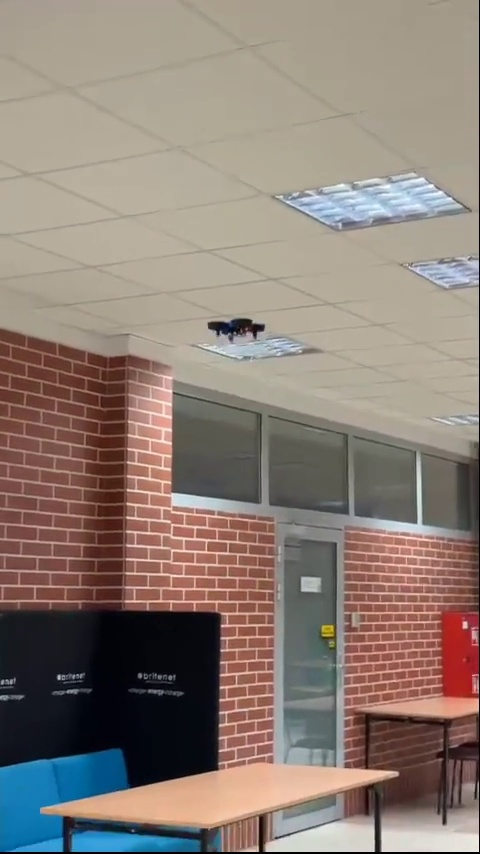drone: (206, 314, 266, 344)
